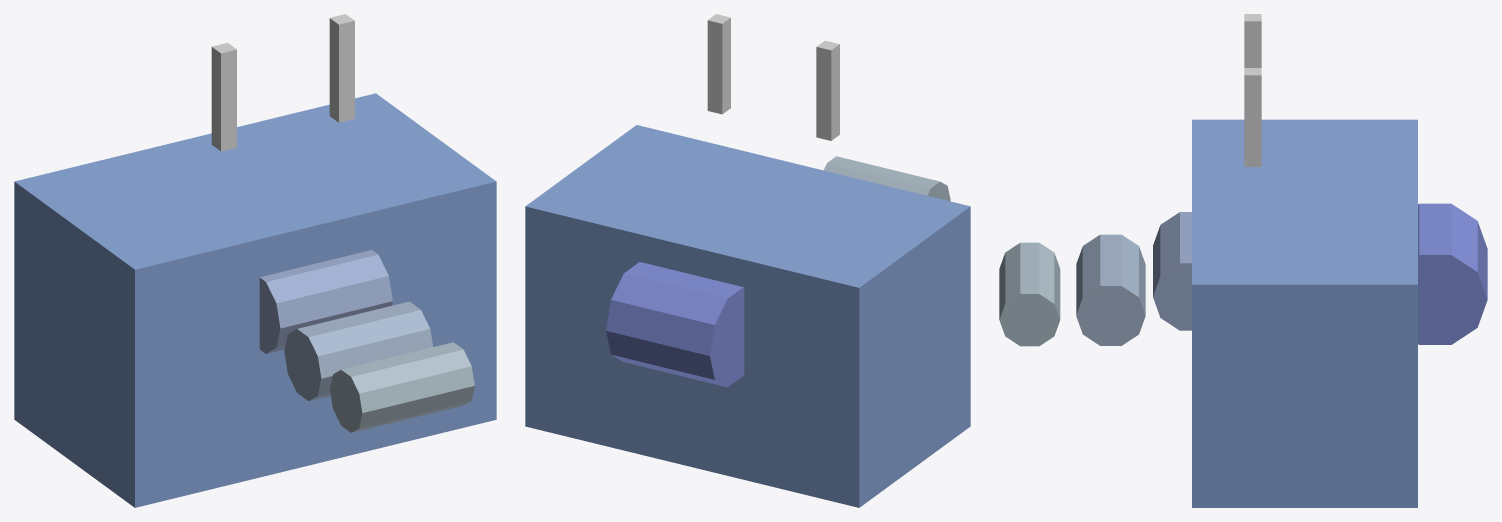
File: mount_t8_serpent.glb
The picture shows the model from 3 angles, left to right: view 1: azimuth 30°, elevation 25°; view 2: azimuth 150°, elevation 25°; view 3: azimuth 270°, elevation 25°; orthographic projection. The views are drawn at different scales.
Parts seen in each view (by area): view 1: geometry_0; view 2: geometry_0; view 3: geometry_0.
Part boxes in pixels (<box>): geometry_0: <box>14,14,496,507</box>; geometry_0: <box>525,14,970,507</box>; geometry_0: <box>999,14,1487,507</box>.
Size of the model in its own units: 1.35 by 1.45 by 1.68.
